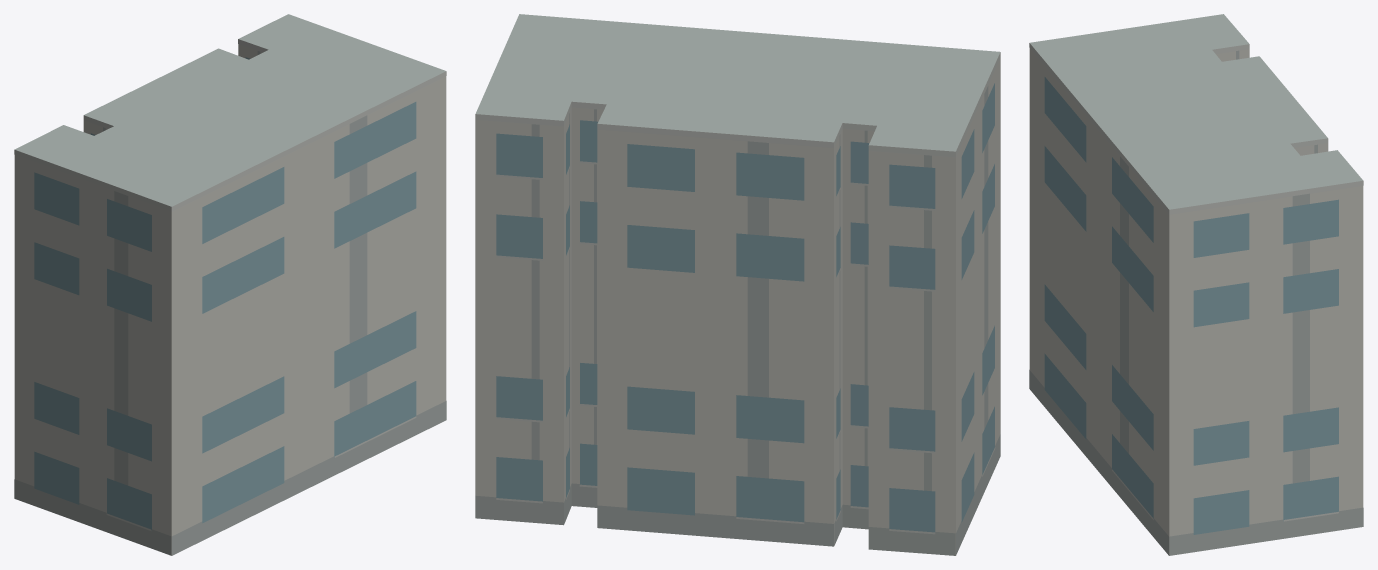
The model's file is survey-upis-32549019.glb.
3 views of the same model, side by side, from view 1: azimuth 30°, elevation 25°; view 2: azimuth 150°, elevation 25°; view 3: azimuth 270°, elevation 25° (orthographic). The views are drawn at different scales.
Visible parts, largest first — view 1: survey-upis-32549019.tmp; view 2: survey-upis-32549019.tmp; view 3: survey-upis-32549019.tmp.
Boxes of the visible parts, <box> form: survey-upis-32549019.tmp: <box>14,14,446,555</box>; survey-upis-32549019.tmp: <box>475,14,1000,555</box>; survey-upis-32549019.tmp: <box>1029,14,1363,555</box>.
Bounding box in the file's own units: 20.62 × 17 × 14.88.
